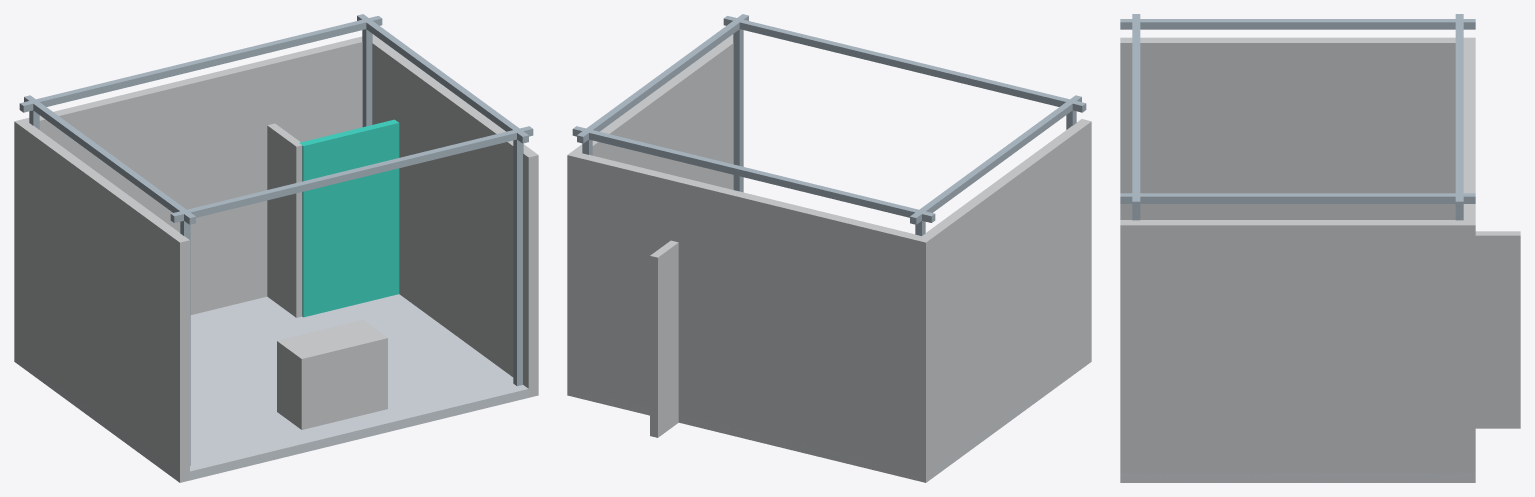
3 renders of one model, left to right at view 1: azimuth 30°, elevation 25°; view 2: azimuth 150°, elevation 25°; view 3: azimuth 270°, elevation 25°, orthographic. The views are drawn at different scales.
Visible parts, largest first — view 1: Exhibition Booth Concept; view 2: Exhibition Booth Concept; view 3: Exhibition Booth Concept.
Part boxes in pixels (left/top/right/bottom): Exhibition Booth Concept: left=14, top=14, right=538, bottom=482; Exhibition Booth Concept: left=567, top=14, right=1091, bottom=482; Exhibition Booth Concept: left=1120, top=14, right=1520, bottom=482.
Bounding box in the file's own units: 5 × 3.49 × 4.51.
